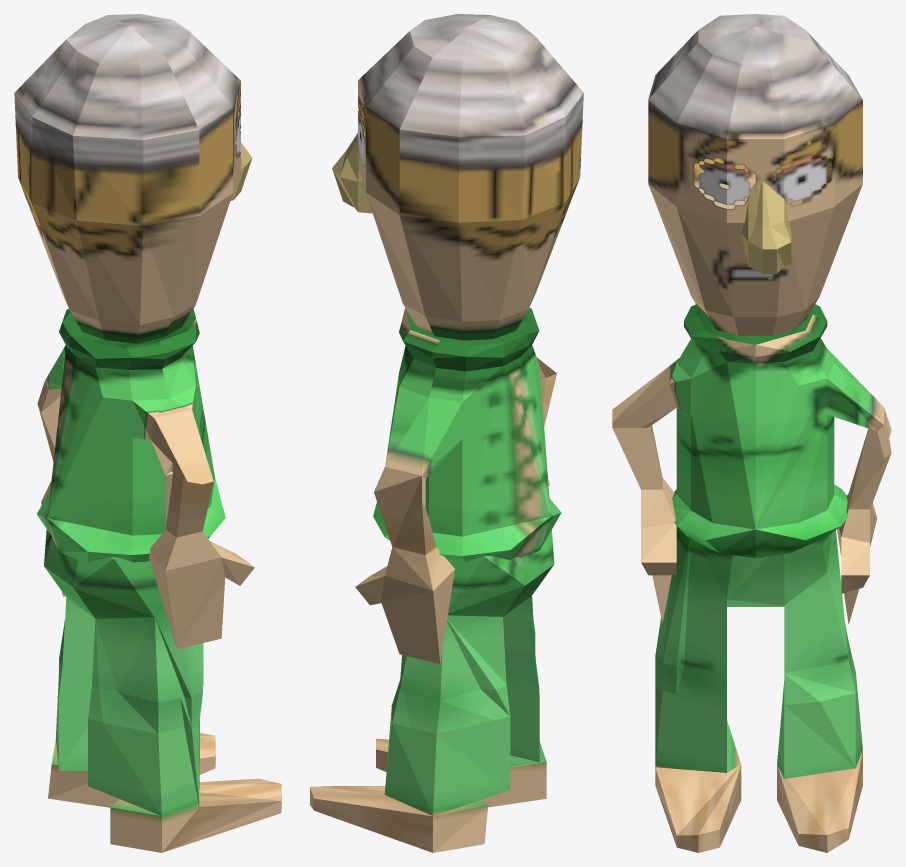
Rendered from PipAsy.glb.
The picture shows the model from 3 angles, left to right: view 1: azimuth 30°, elevation 25°; view 2: azimuth 150°, elevation 25°; view 3: azimuth 270°, elevation 25°; orthographic projection. The views are drawn at different scales.
Parts seen in each view (by area): view 1: PipAsy; view 2: PipAsy; view 3: PipAsy.
Boxes of the visible parts, bbox=[...] form: PipAsy: bbox=[14, 14, 281, 852]; PipAsy: bbox=[310, 14, 583, 852]; PipAsy: bbox=[612, 14, 891, 852].
Size of the model in its own units: 34.29 by 116 by 37.93.
Materials: 1 (1 with a texture image).
